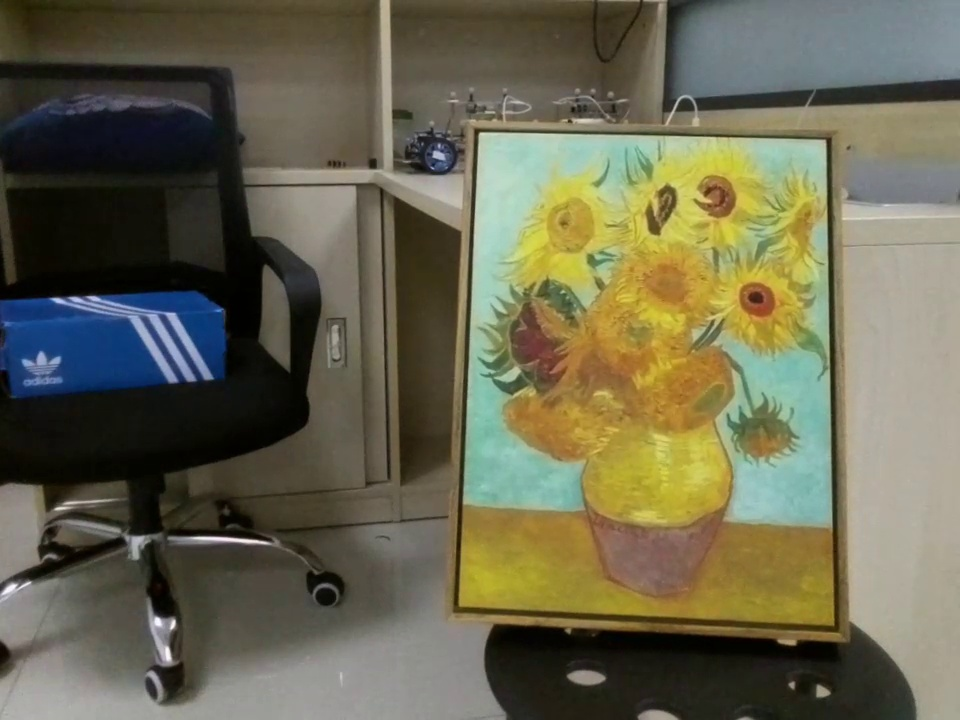painting: (443, 116, 867, 650)
